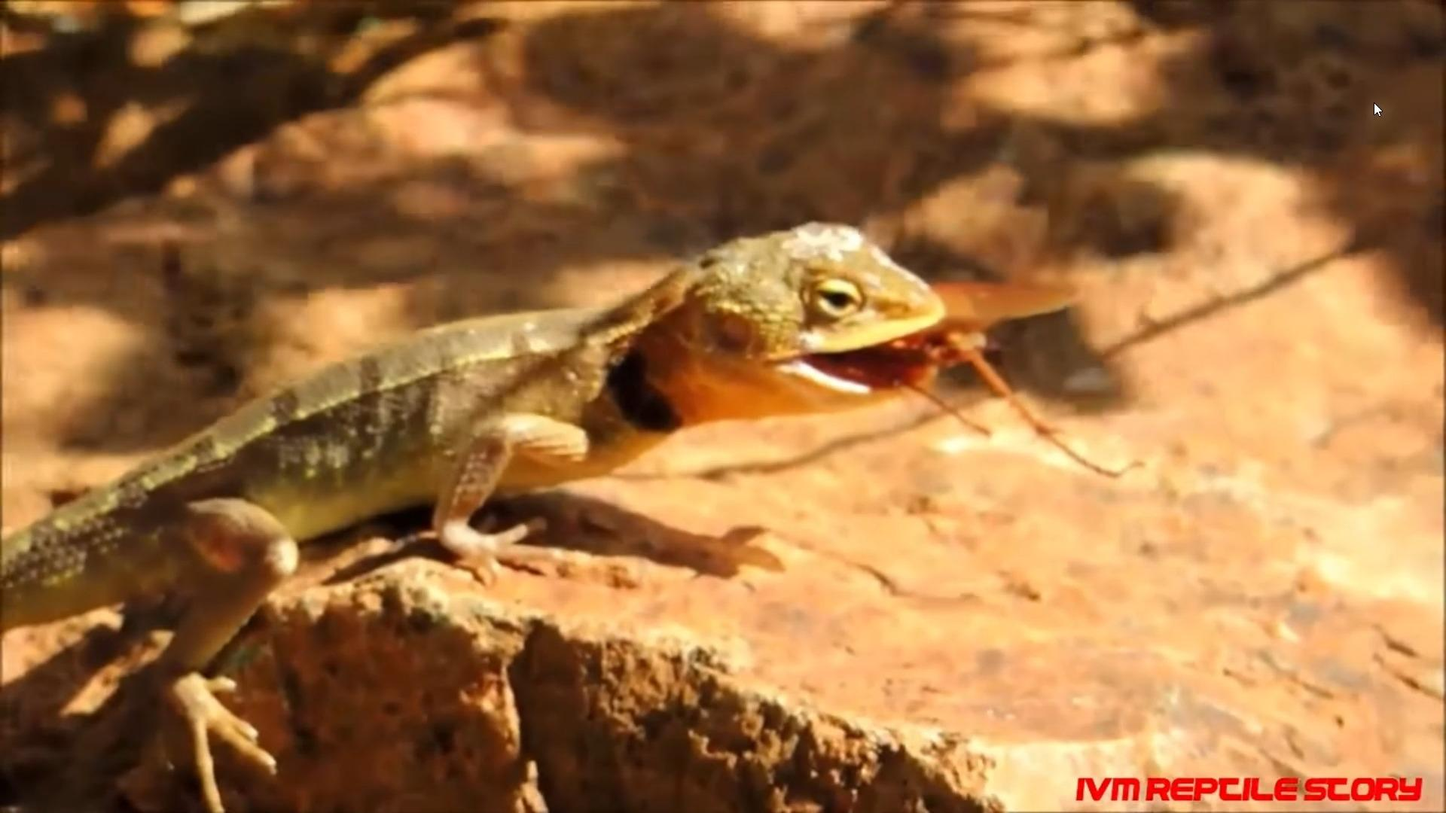cockroach: (933, 270, 1084, 461)
lizard: (109, 216, 949, 678)
